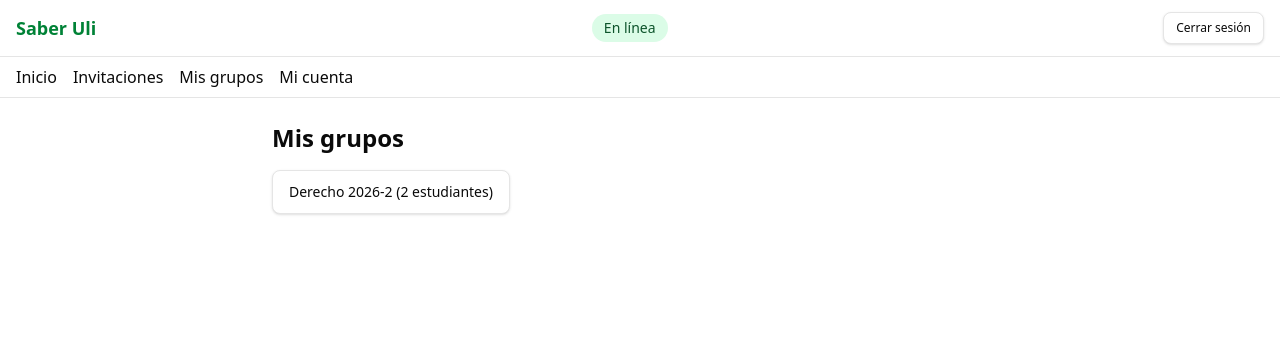
Test: mis grupos › lista los grupos del docente y los nombres de sus estudiantes sin correos
Expected: the heading "Mis grupos" is shown, [272,121,404,154]
Step 1. Click the button "Derecho 2026-2 (2 estudiantes)" → (391, 192), box [272,170,510,214]
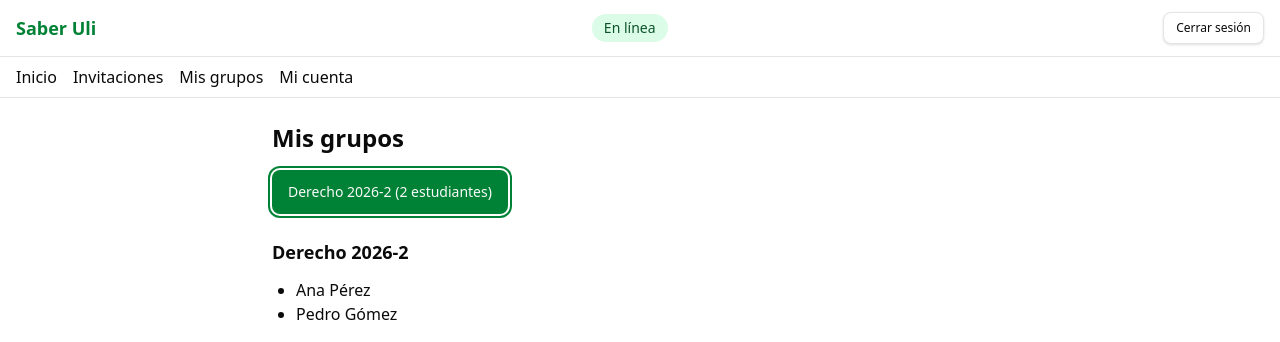
Result: the list items read "Ana Pérez", "Pedro Gómez", in this order at [296,279,371,301]; [296,303,397,325]
